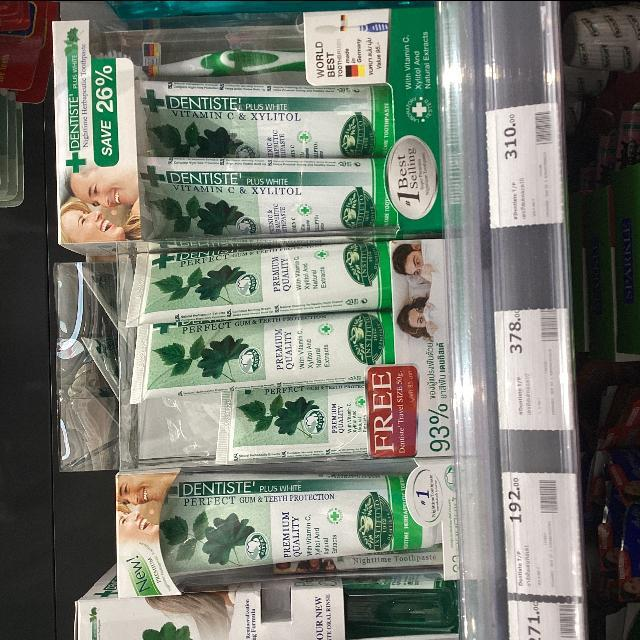Squeeze Tube: (27, 3, 538, 640), (118, 464, 480, 599), (130, 144, 399, 239), (127, 307, 397, 390), (123, 234, 394, 313), (131, 74, 400, 152)
